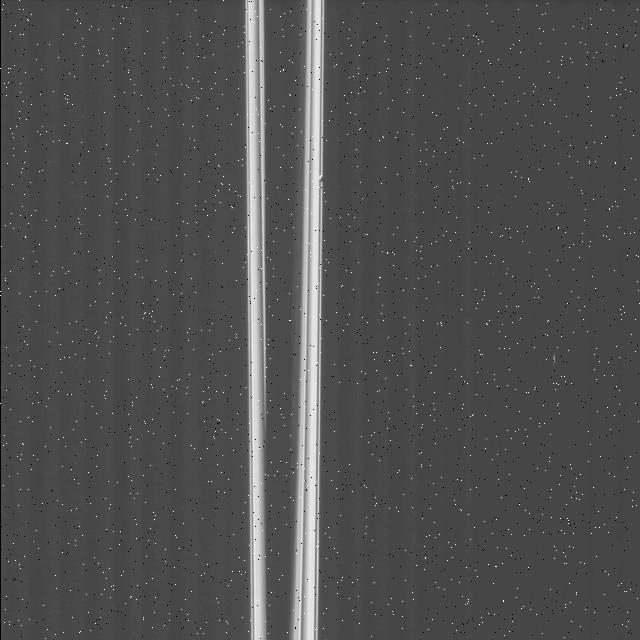Saturn: (244, 0, 326, 640)
